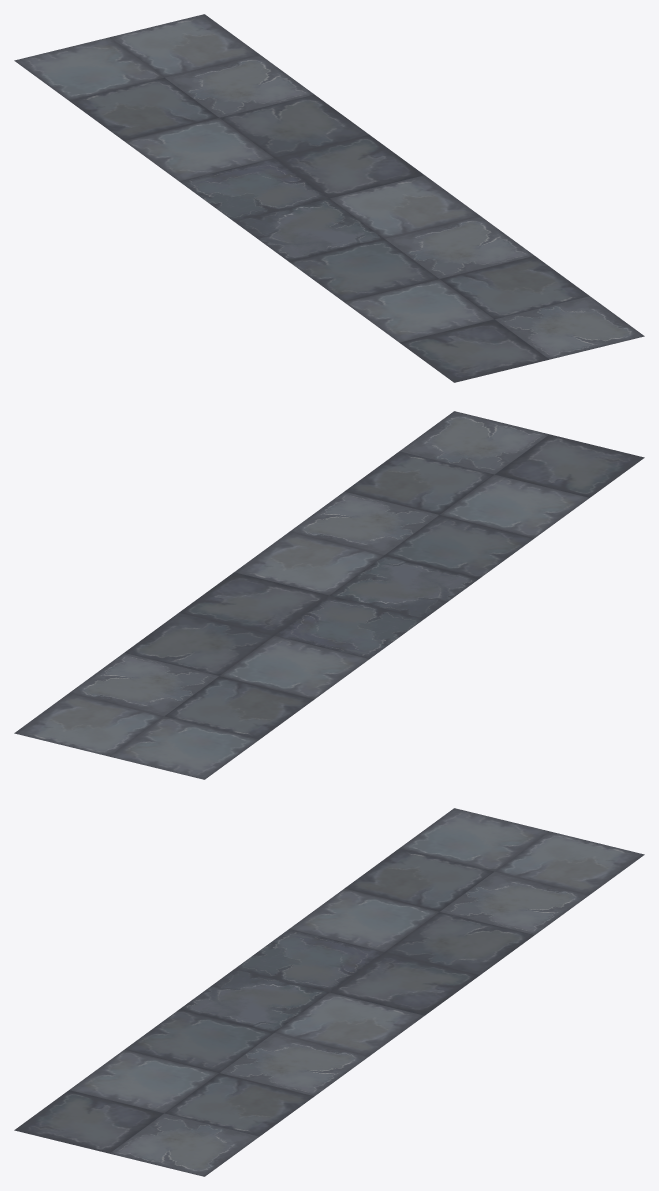
The model's file is Castle Ground + Mix 2x8.fbx.
3 views of the same model, one above another, from view 1: azimuth 30°, elevation 25°; view 2: azimuth 150°, elevation 25°; view 3: azimuth 330°, elevation 25° (orthographic).
Parts seen in each view (by area): view 1: Castle Ground + Mix 2x8; view 2: Castle Ground + Mix 2x8; view 3: Castle Ground + Mix 2x8.
Part boxes in pixels (left/top/right/bottom): Castle Ground + Mix 2x8: left=14, top=14, right=644, bottom=382; Castle Ground + Mix 2x8: left=14, top=411, right=644, bottom=779; Castle Ground + Mix 2x8: left=14, top=808, right=644, bottom=1176.
Bounding box in the file's own units: 1.5 × 9.55e-07 × 6.
